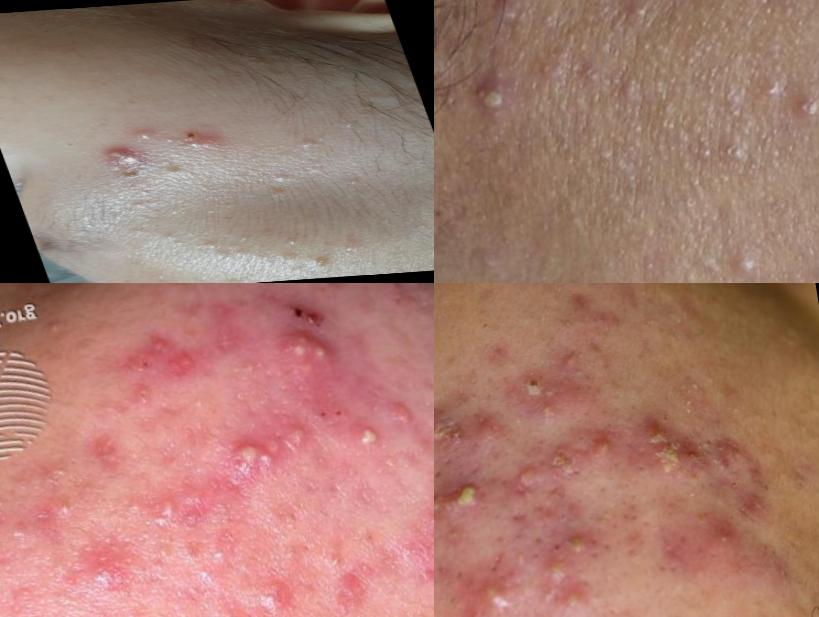papular: (309, 544, 400, 617), (371, 514, 435, 601), (138, 481, 223, 533), (695, 506, 761, 568), (80, 530, 132, 603), (377, 387, 431, 444), (168, 128, 233, 156), (465, 403, 501, 451), (412, 492, 435, 536), (152, 284, 242, 295)
purulent: (239, 550, 320, 616), (472, 69, 525, 129), (747, 59, 799, 113), (344, 411, 397, 462), (480, 1, 535, 38), (782, 84, 819, 128), (124, 126, 169, 147), (485, 578, 513, 609), (563, 585, 593, 612), (538, 397, 564, 428), (568, 522, 596, 550), (548, 547, 569, 582)
sebo-crystan-conglo: (208, 402, 332, 497), (114, 320, 227, 388), (250, 324, 360, 392), (629, 408, 709, 493), (531, 427, 613, 478), (435, 469, 488, 524), (94, 143, 160, 178), (435, 396, 455, 456)
whitehead: (719, 233, 780, 284), (602, 1, 668, 48), (2, 507, 54, 558), (621, 61, 659, 111), (51, 485, 90, 526), (720, 128, 759, 167), (150, 532, 186, 570), (686, 122, 714, 167), (303, 253, 352, 274), (211, 536, 239, 568), (120, 196, 162, 216), (290, 134, 332, 152), (226, 248, 269, 265), (270, 249, 308, 268), (154, 162, 195, 179), (263, 170, 304, 186), (332, 237, 365, 256), (333, 175, 371, 190), (198, 237, 230, 254), (339, 113, 371, 129), (231, 231, 263, 247), (261, 188, 296, 202), (276, 237, 307, 251)
